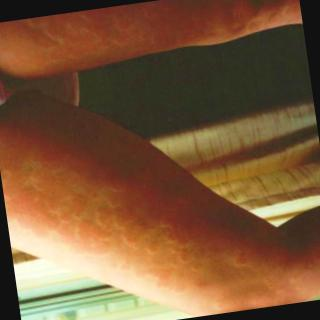urticaria: (25, 168, 129, 217)
